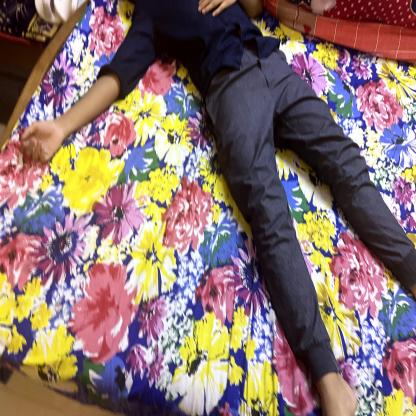hand: (10, 49, 128, 178)
leg: (218, 76, 359, 416), (280, 40, 416, 296)
